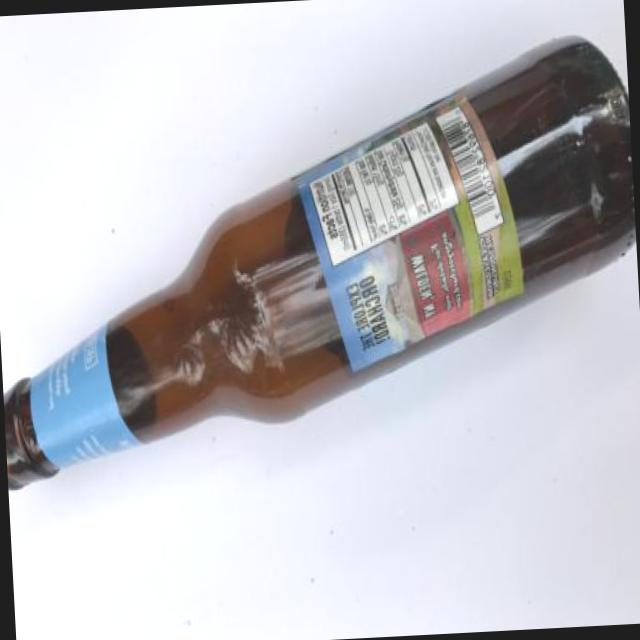chai_thuy_tinh: (3, 188, 401, 490), (327, 41, 636, 401)
giay: (310, 95, 526, 374)
